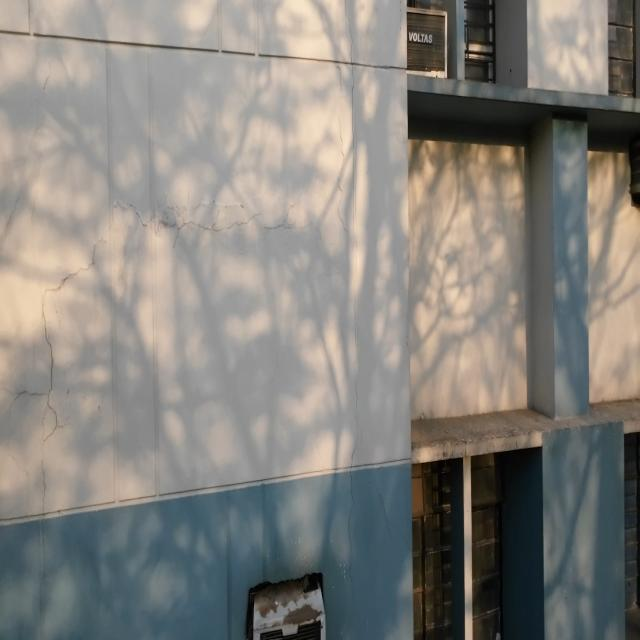Crack: (75, 216, 296, 282), (348, 293, 362, 543), (42, 296, 60, 457), (346, 0, 357, 159), (338, 136, 352, 234), (40, 440, 46, 617), (13, 389, 42, 401), (337, 66, 346, 89), (344, 0, 346, 20)
